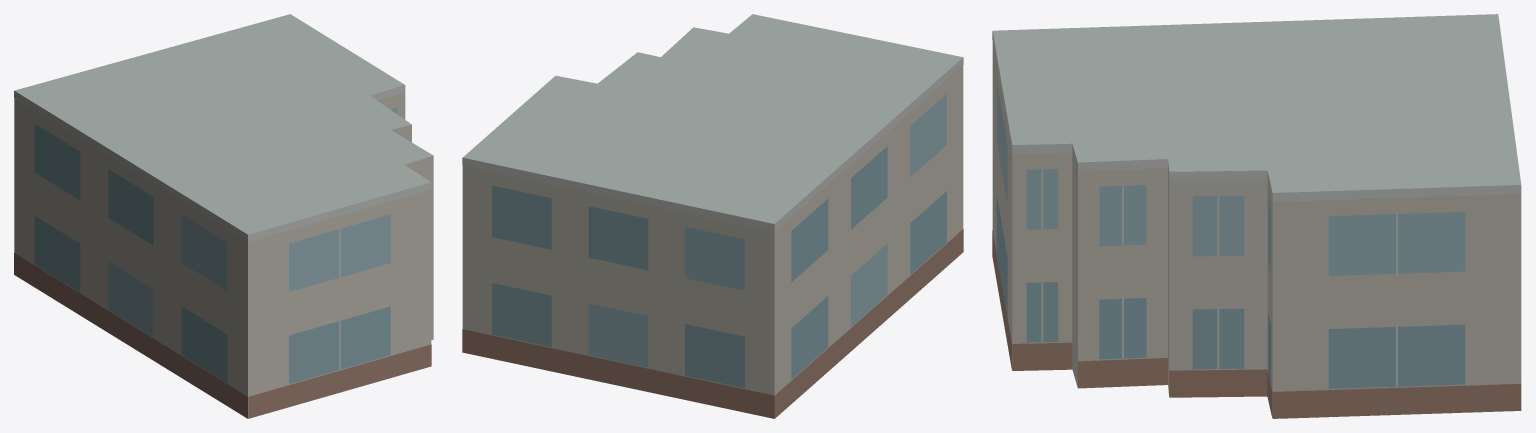
The model's file is survey-upis-32711387.glb.
3 renders of one model, left to right at view 1: azimuth 30°, elevation 25°; view 2: azimuth 150°, elevation 25°; view 3: azimuth 270°, elevation 25°, orthographic. The views are drawn at different scales.
Visible parts, largest first — view 1: survey-upis-32711387.tmp; view 2: survey-upis-32711387.tmp; view 3: survey-upis-32711387.tmp.
Boxes of the visible parts, left/top/right/bottom form: survey-upis-32711387.tmp: left=14, top=14, right=433, bottom=418; survey-upis-32711387.tmp: left=462, top=14, right=963, bottom=418; survey-upis-32711387.tmp: left=992, top=14, right=1521, bottom=418.
Size of the model in its own units: 10.38 by 6.1 by 12.95.
